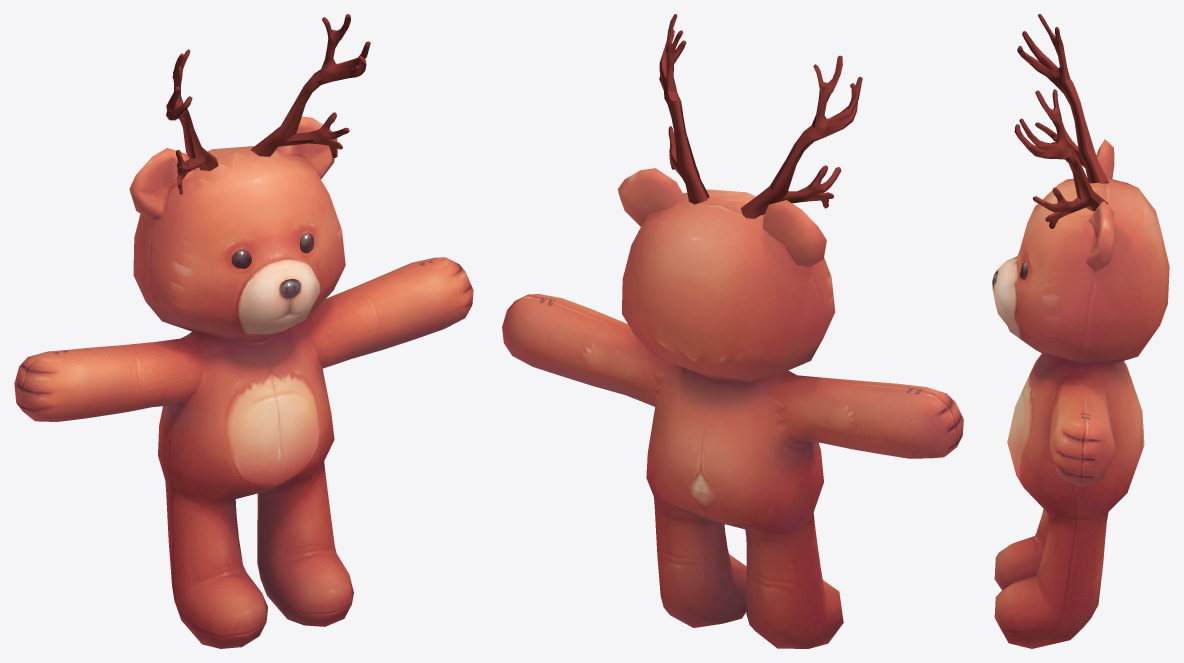
The model's file is OsitoCanadiense.glb.
3 renders of one model, left to right at view 1: azimuth 30°, elevation 25°; view 2: azimuth 150°, elevation 25°; view 3: azimuth 270°, elevation 25°, orthographic. The views are drawn at different scales.
Parts seen in each view (by area): view 1: Osito, Canada; view 2: Osito, Canada; view 3: Osito, Canada.
Part boxes in pixels (left/top/right/bottom): Osito: left=14, top=116, right=473, bottom=648; Canada: left=166, top=14, right=370, bottom=194; Osito: left=502, top=168, right=963, bottom=648; Canada: left=659, top=14, right=862, bottom=218; Osito: left=992, top=139, right=1169, bottom=648; Canada: left=1014, top=14, right=1108, bottom=228.
Bounding box in the file's own units: 2.11 × 2.72 × 0.7668.
Materials: 2 (1 with a texture image).
